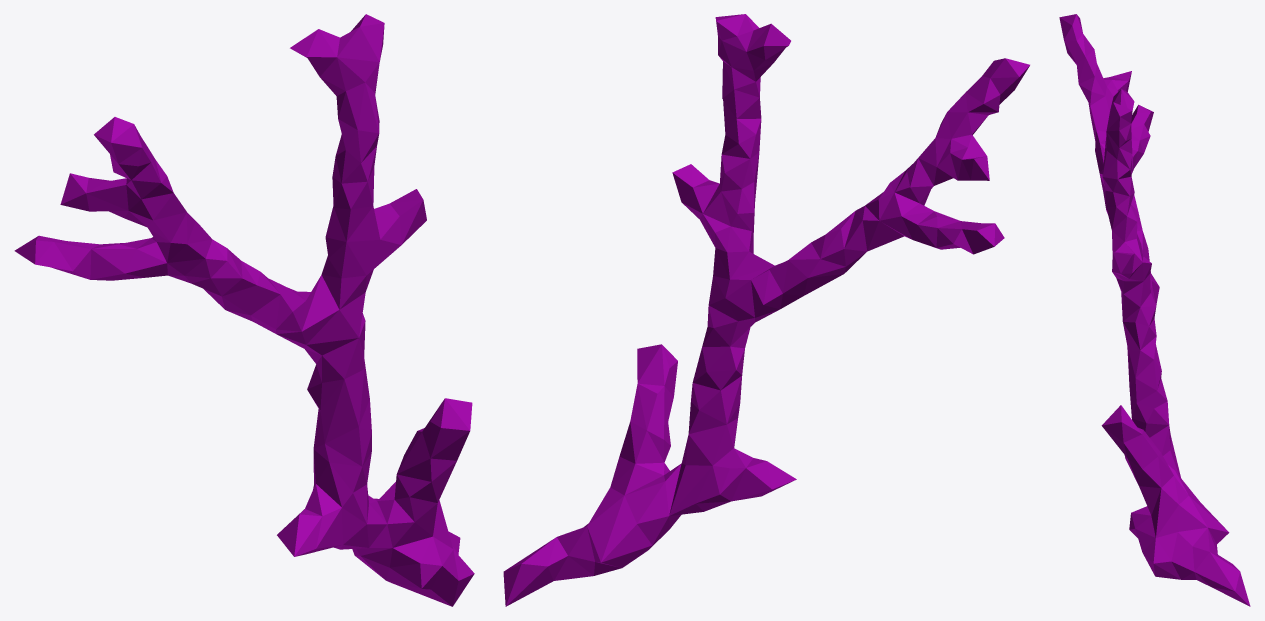
The model's file is my_mesh_Coral 2 Whole Watertight Small.glb.
3 views of the same model, side by side, from view 1: azimuth 30°, elevation 25°; view 2: azimuth 150°, elevation 25°; view 3: azimuth 270°, elevation 25° (orthographic). The views are drawn at different scales.
Parts seen in each view (by area): view 1: Coral 2 Whole Watertight Small; view 2: Coral 2 Whole Watertight Small; view 3: Coral 2 Whole Watertight Small.
Boxes of the visible parts, x1,y1,x2,y2 form: Coral 2 Whole Watertight Small: (14,14,474,606); Coral 2 Whole Watertight Small: (503,14,1029,606); Coral 2 Whole Watertight Small: (1059,14,1250,606).
Bounding box in the file's own units: 19.32 × 23.87 × 9.24.
Materials: 1 (1 with a texture image).
